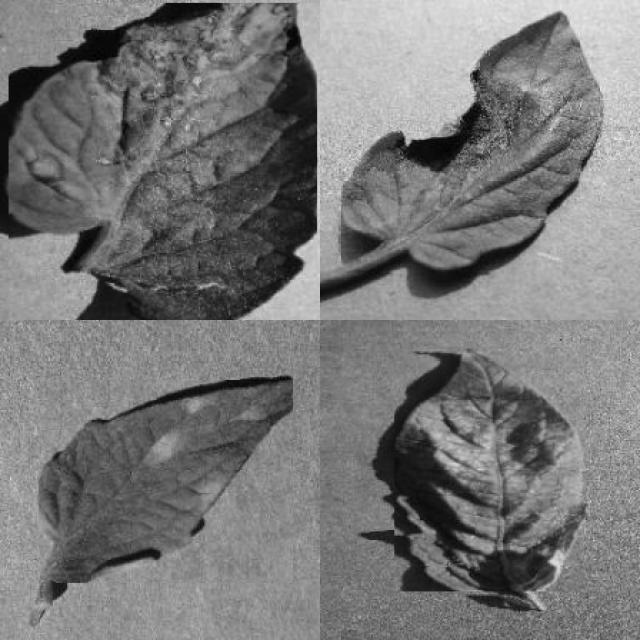Early Blight: (9, 3, 317, 320)
Late Blight: (343, 10, 606, 274)
Leaf Mold: (38, 380, 293, 583)
Spider Mites: (395, 348, 585, 592)
